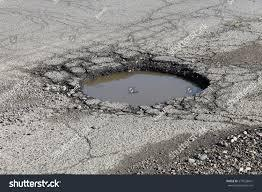pothole: (44, 50, 232, 108)
